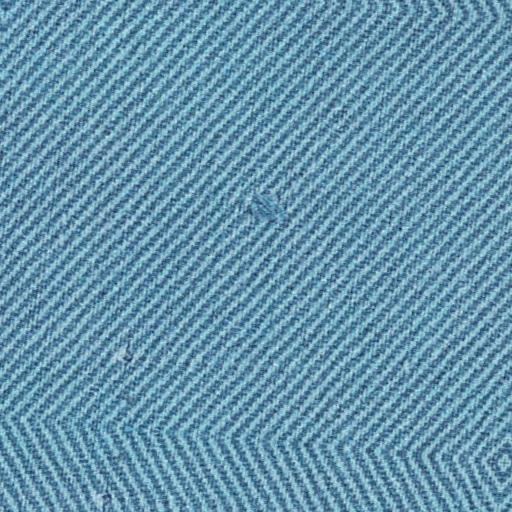knot: (228, 185, 304, 236)
